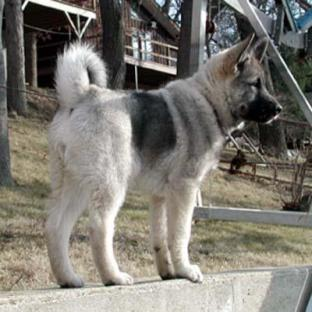Animal: (46, 35, 282, 287)
